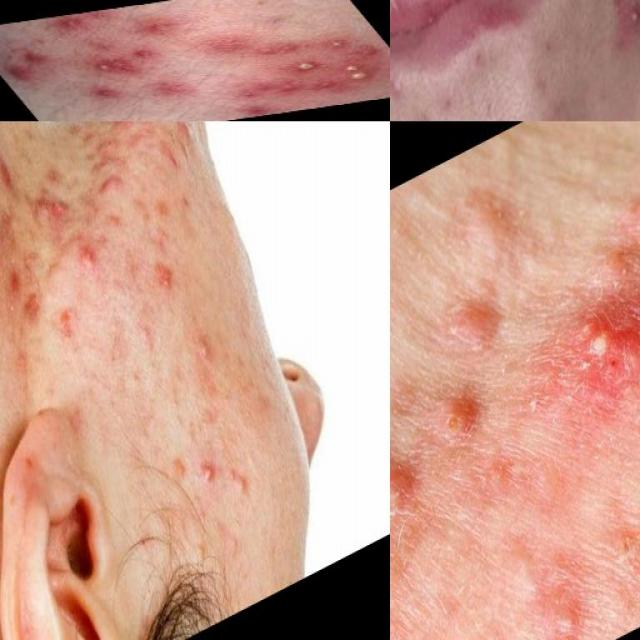8: (0, 46, 69, 85), (390, 46, 418, 112), (143, 79, 199, 100), (139, 19, 186, 37), (84, 84, 129, 102), (52, 16, 96, 33)
9: (188, 438, 229, 504), (189, 313, 219, 375), (74, 230, 105, 276), (621, 0, 640, 34)
blackheads: (555, 284, 640, 435), (145, 240, 189, 310), (32, 178, 76, 230), (166, 121, 200, 161)
dark spot: (93, 121, 129, 165)
pustules: (431, 284, 506, 387), (390, 437, 424, 542)
whiteheads: (81, 55, 130, 79), (336, 60, 379, 82), (285, 57, 327, 74), (324, 38, 350, 48)
